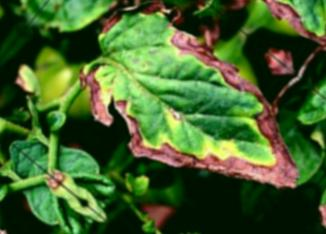Tomato leaf bacterial spot: (51, 0, 326, 234)
